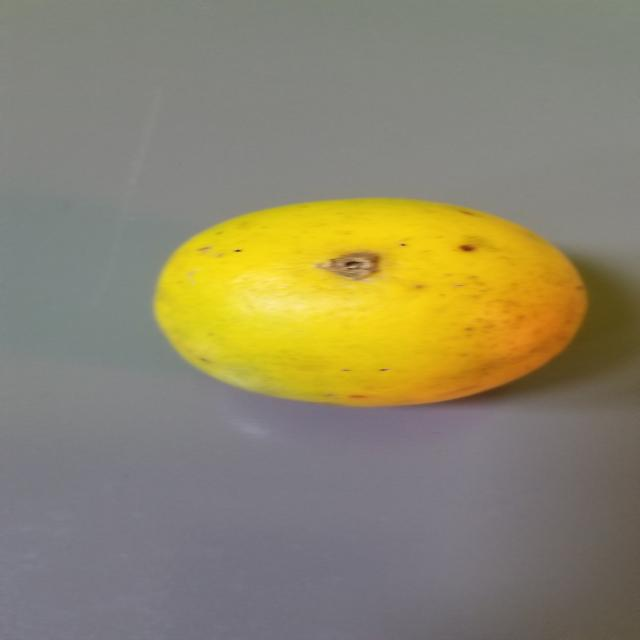Ripe orange: (143, 192, 588, 422)
